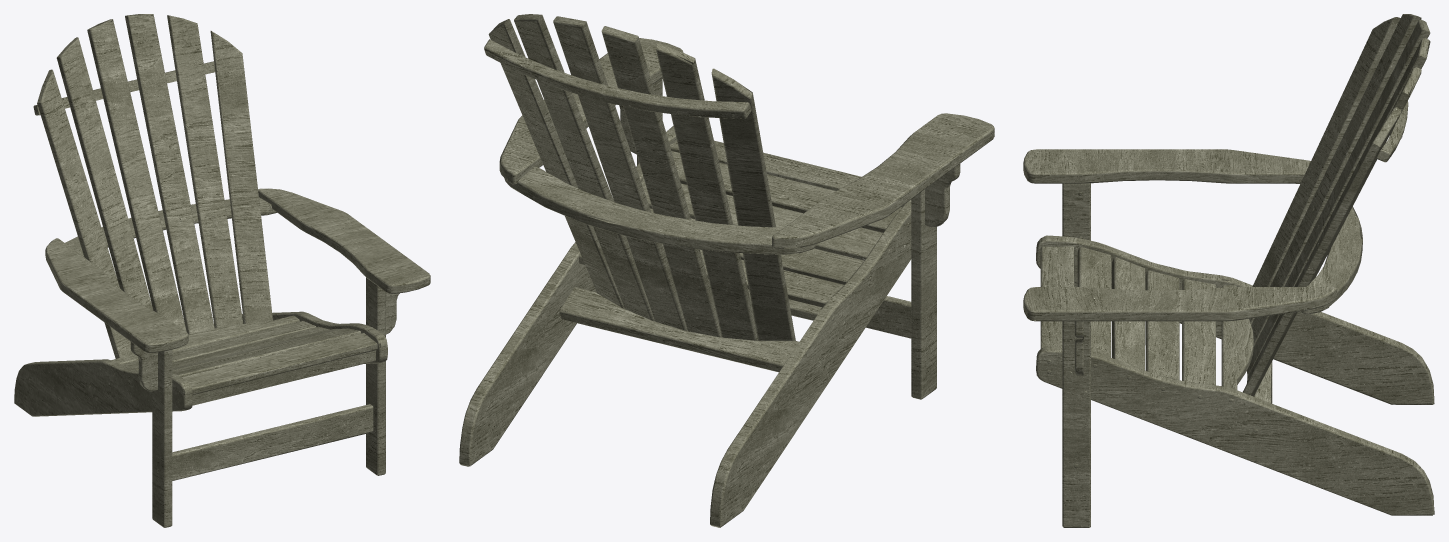
Rendered from fiberon-furniture.glb.
The picture shows the model from 3 angles, left to right: view 1: azimuth 30°, elevation 25°; view 2: azimuth 150°, elevation 25°; view 3: azimuth 270°, elevation 25°; orthographic projection. The views are drawn at different scales.
Visible parts, largest first — view 1: node_id6; view 2: node_id6; view 3: node_id6.
Part boxes in pixels (x1=…): node_id6: x1=14, y1=14, x2=430, y2=527; node_id6: x1=459, y1=14, x2=994, y2=527; node_id6: x1=1023, y1=14, x2=1434, y2=527.
Bounding box in the file's own units: 0.4135 × 0.512 × 0.4422.
1 material, 1 textured.
